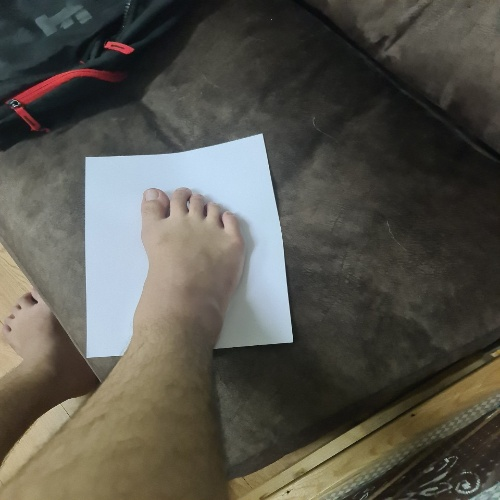Top_Foot: (51, 121, 312, 371)
